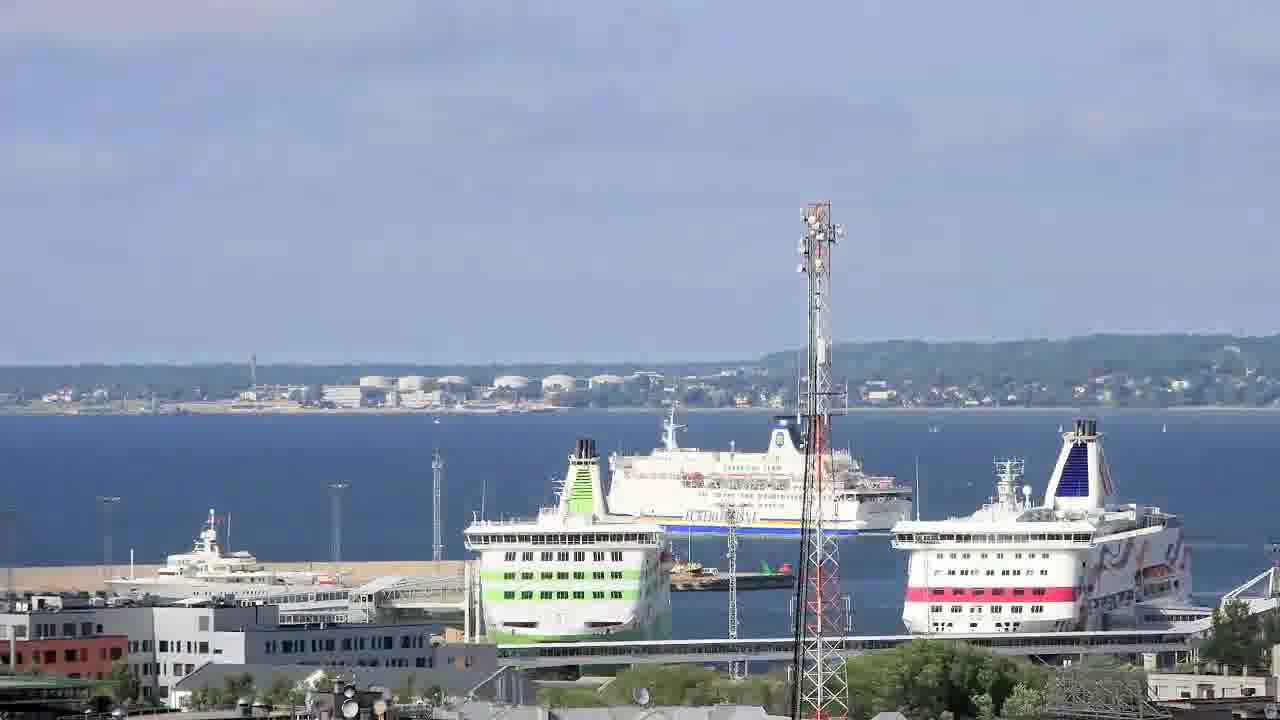type-3: (868, 415, 1225, 638), (436, 434, 694, 670), (588, 403, 915, 544), (72, 499, 354, 615)
